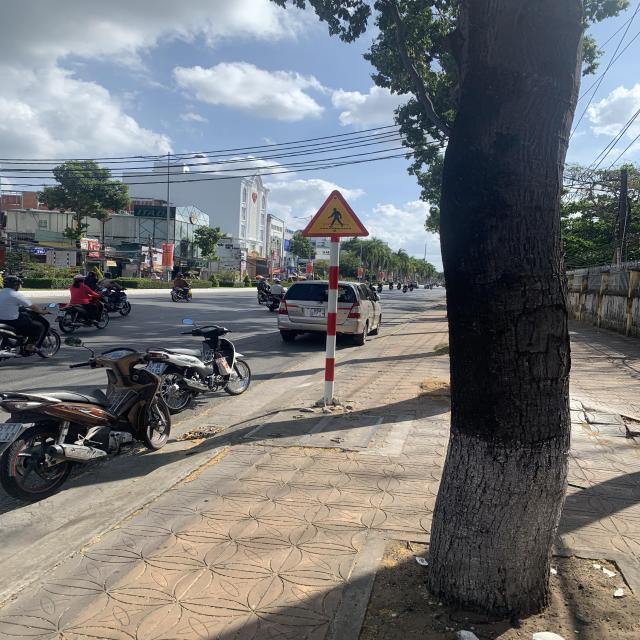Duong_Nguoi_Di_Bo_Sang_Ngang: (302, 190, 369, 237)
